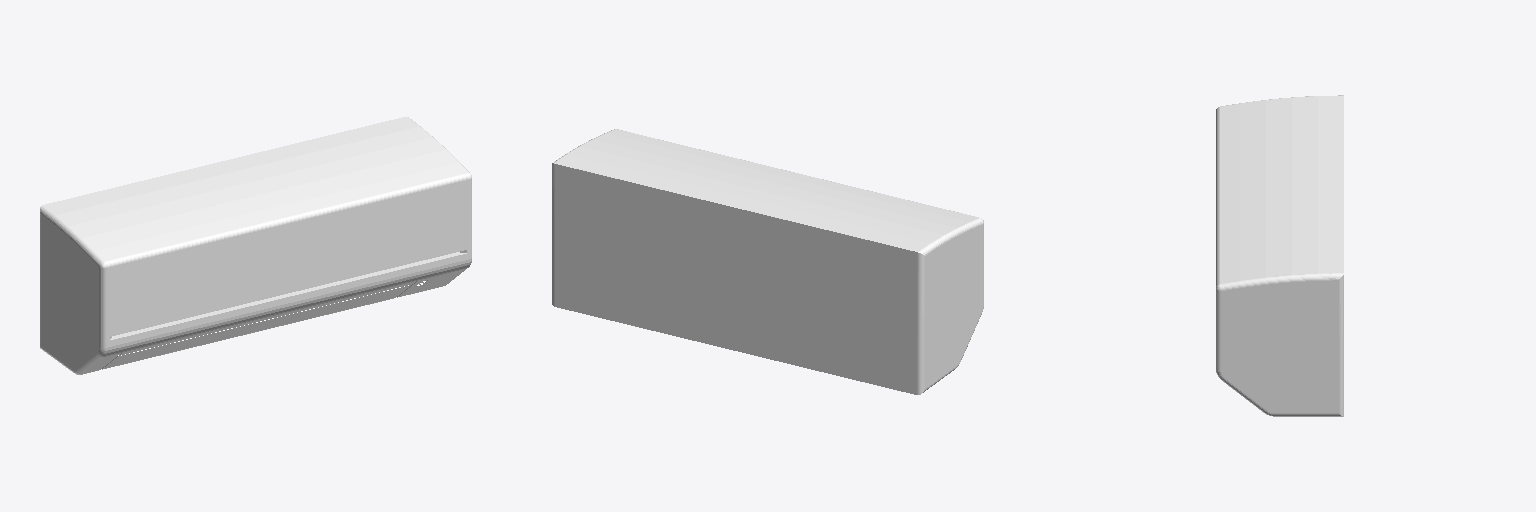
3 renders of one model, left to right at view 1: azimuth 30°, elevation 25°; view 2: azimuth 150°, elevation 25°; view 3: azimuth 270°, elevation 25°, orthographic.
Visible parts, largest first — view 1: Body1_Body1.001; view 2: Body1_Body1.001; view 3: Body1_Body1.001.
Boxes of the visible parts, x1=… form: Body1_Body1.001: x1=40, y1=117, x2=471, y2=374; Body1_Body1.001: x1=552, y1=129, x2=983, y2=394; Body1_Body1.001: x1=1216, y1=95, x2=1343, y2=416.
Size of the model in its own units: 0.77 by 0.283 by 0.23.